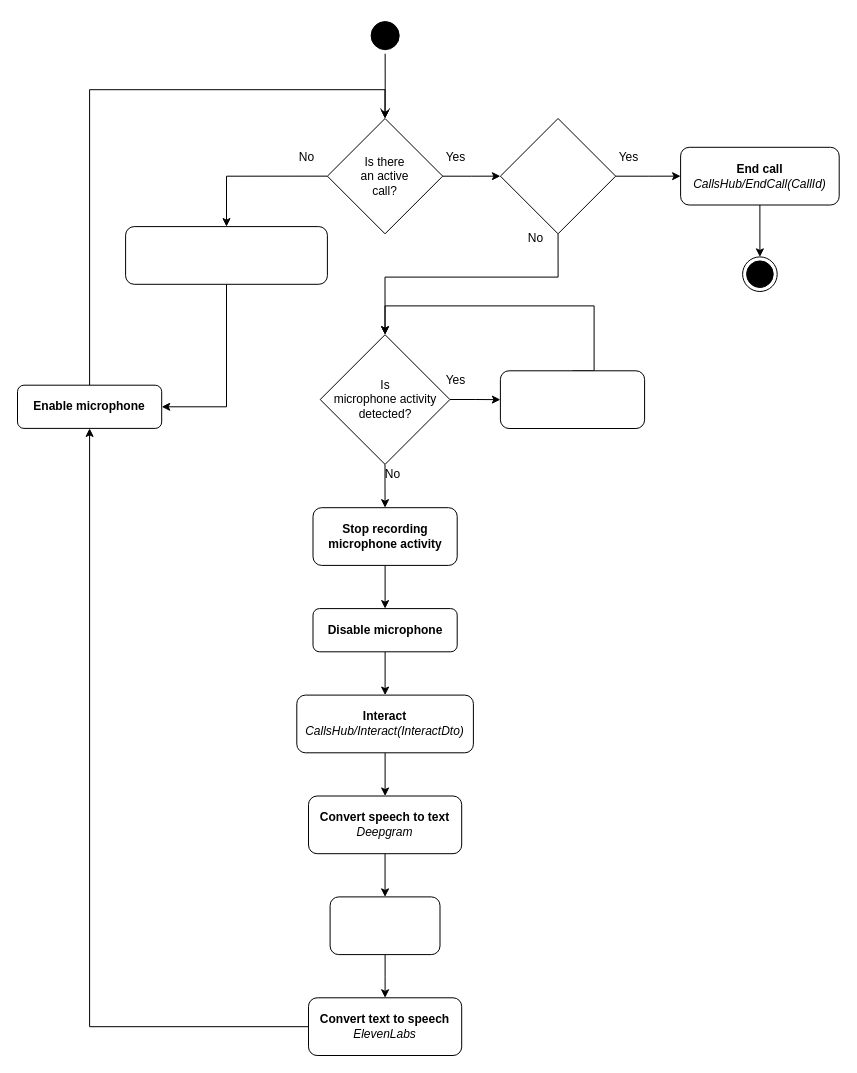
This 857x1073 diagram has some shape labels left out. Each missing label, with the box of its shape:
All required information is gathered?: (499, 118, 616, 234)
Generate reply OpenAI: (329, 896, 440, 955)
Record microphone activity: (499, 370, 645, 428)
Start call CallsHub/StartCall(PatientDto): (125, 226, 327, 284)
